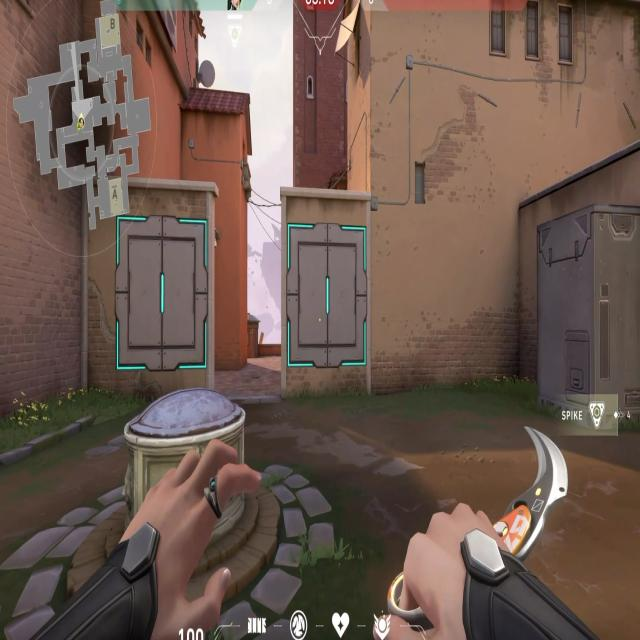Mid_Wall: (118, 215, 208, 372), (286, 224, 367, 370)
